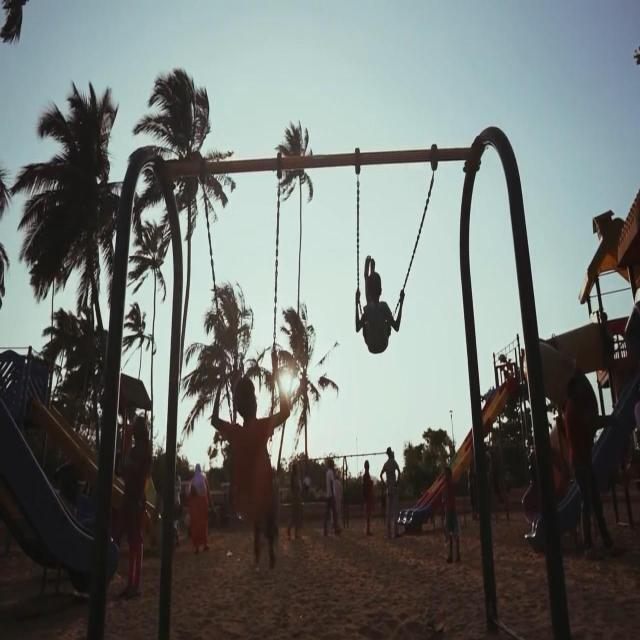no-helmet: (233, 373, 259, 424), (366, 268, 384, 305), (565, 375, 583, 403), (121, 390, 134, 419), (439, 450, 449, 470), (290, 455, 300, 474), (324, 451, 334, 470), (384, 446, 396, 460), (361, 453, 369, 473), (194, 461, 203, 478), (172, 464, 179, 479)
